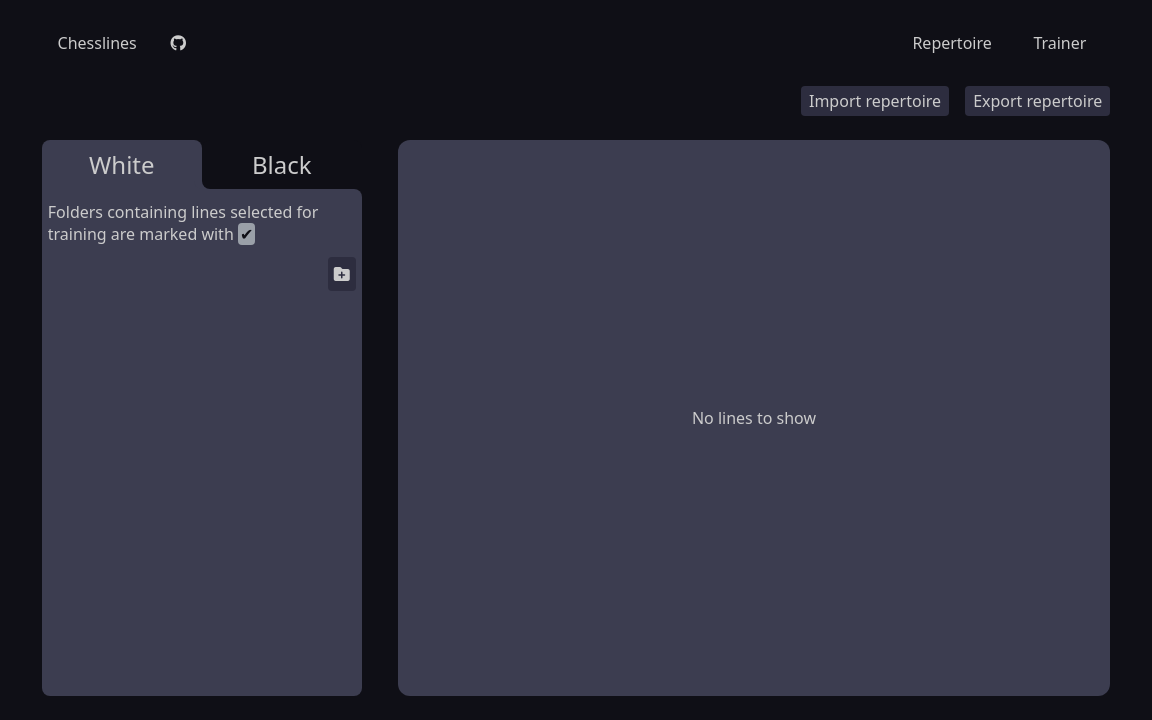
Test: Import › Has form with file input only in file tab
This screenshot has width=1152, height=720.
Click the button "Import repertoire" at (875, 101), box [801,86,949,116]
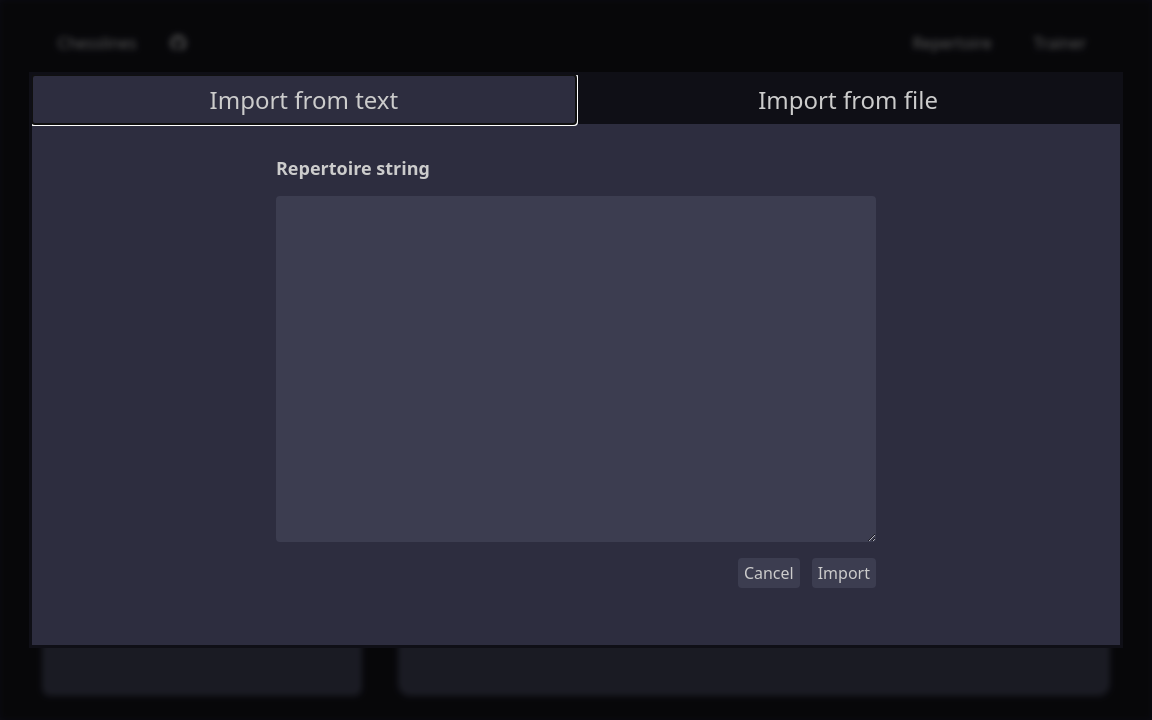
Click the tab "Import from file" at (848, 100), box [576,75,1120,124]
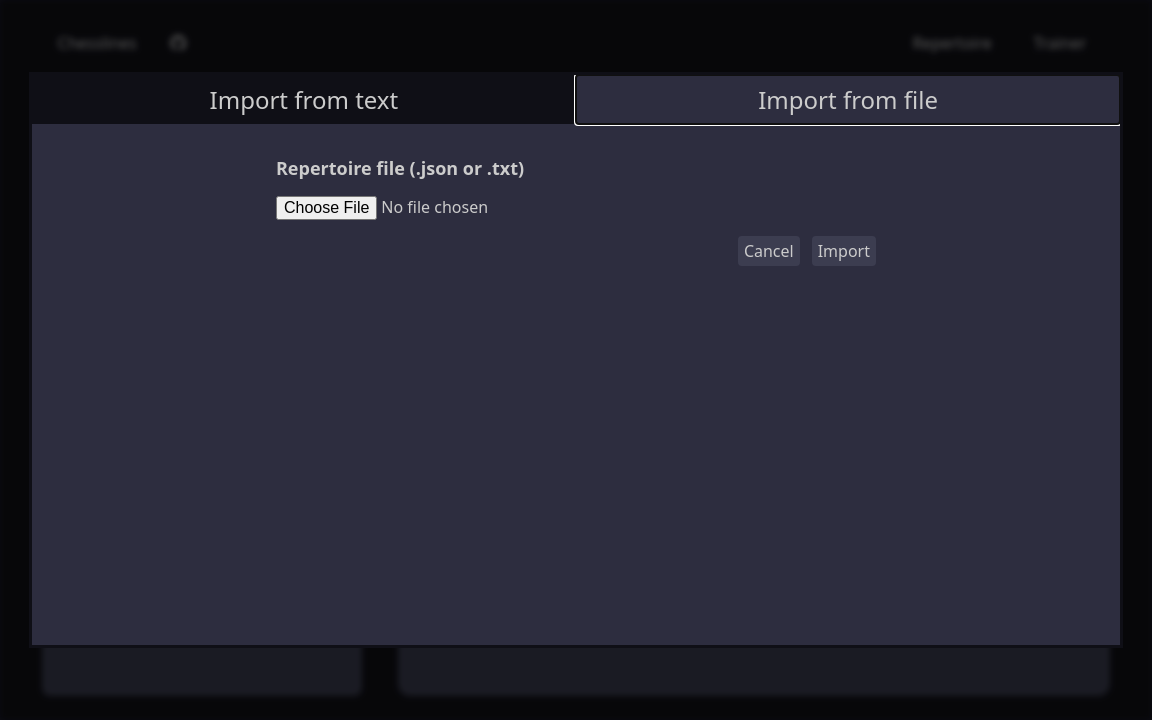
Expected: the label "Repertoire string" is gone
Expected: the file field labelled "Repertoire file (.json or .txt)" is shown, [276,196,876,220]
